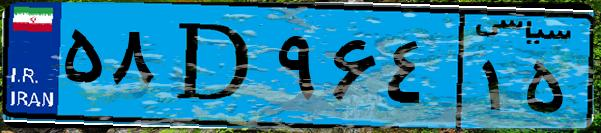1: (475, 38, 525, 113)
4: (385, 28, 445, 110)
5: (57, 26, 110, 100), (525, 38, 570, 115)
6: (330, 28, 385, 110)
8: (110, 28, 158, 98)
9: (270, 28, 330, 110)
D: (158, 12, 270, 120)
